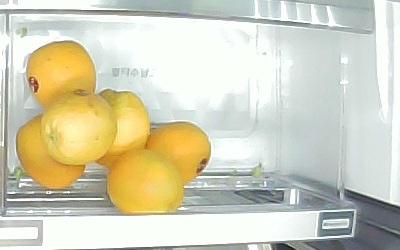orange: (41, 93, 116, 166), (15, 112, 87, 188), (107, 151, 184, 214), (26, 40, 96, 109), (94, 88, 150, 165), (145, 121, 210, 181)
